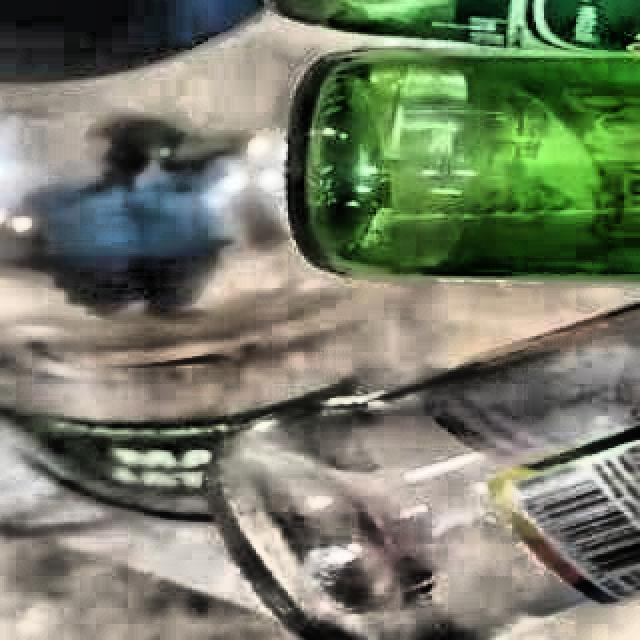glass: (269, 0, 640, 280)
